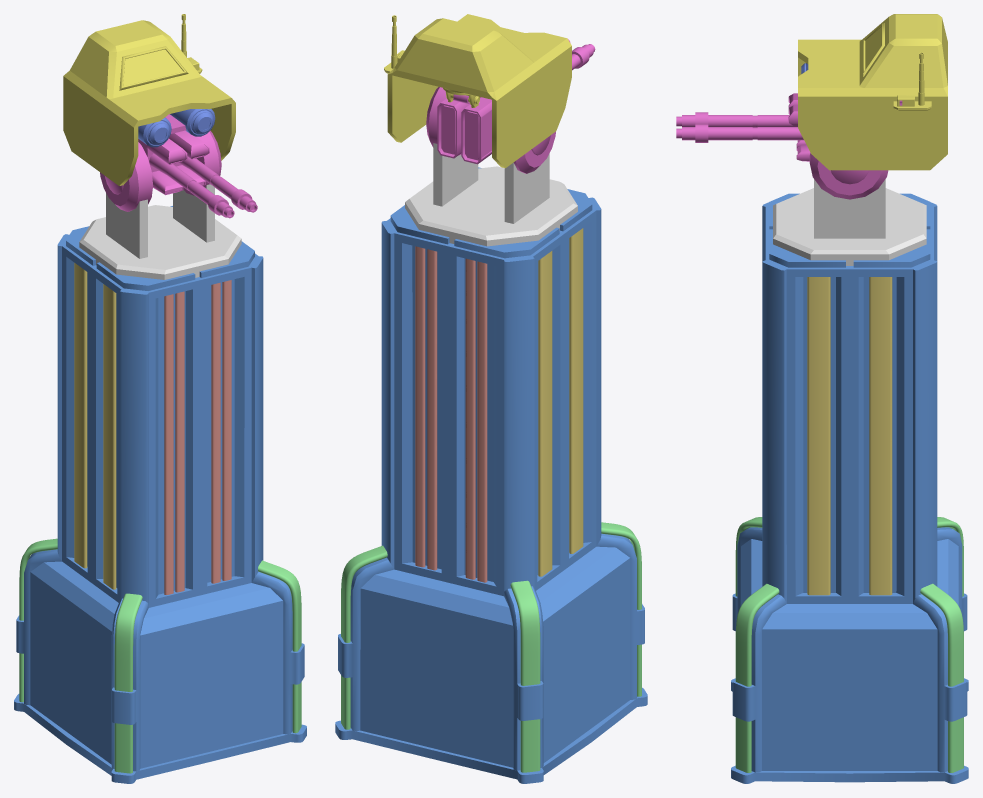
Rendered from FullRawDamageTower.fbx.
The picture shows the model from 3 angles, left to right: view 1: azimuth 30°, elevation 25°; view 2: azimuth 150°, elevation 25°; view 3: azimuth 270°, elevation 25°; orthographic projection. The views are drawn at different scales.
Visible parts, largest first — view 1: Tower, MainTurret, Stand; view 2: Tower, MainTurret, Stand; view 3: Tower, MainTurret, Stand.
Boxes of the visible parts, left/top/right/bottom form: Tower: left=14, top=206, right=306, bottom=783; MainTurret: left=63, top=14, right=257, bottom=218; Stand: left=79, top=184, right=241, bottom=279; Tower: left=335, top=167, right=647, bottom=783; MainTurret: left=384, top=14, right=595, bottom=173; Stand: left=405, top=143, right=577, bottom=246; Tower: left=731, top=193, right=968, bottom=783; MainTurret: left=676, top=14, right=947, bottom=199; Stand: left=773, top=179, right=926, bottom=265.
Bounding box in the file's own units: 186 × 612 × 229.
